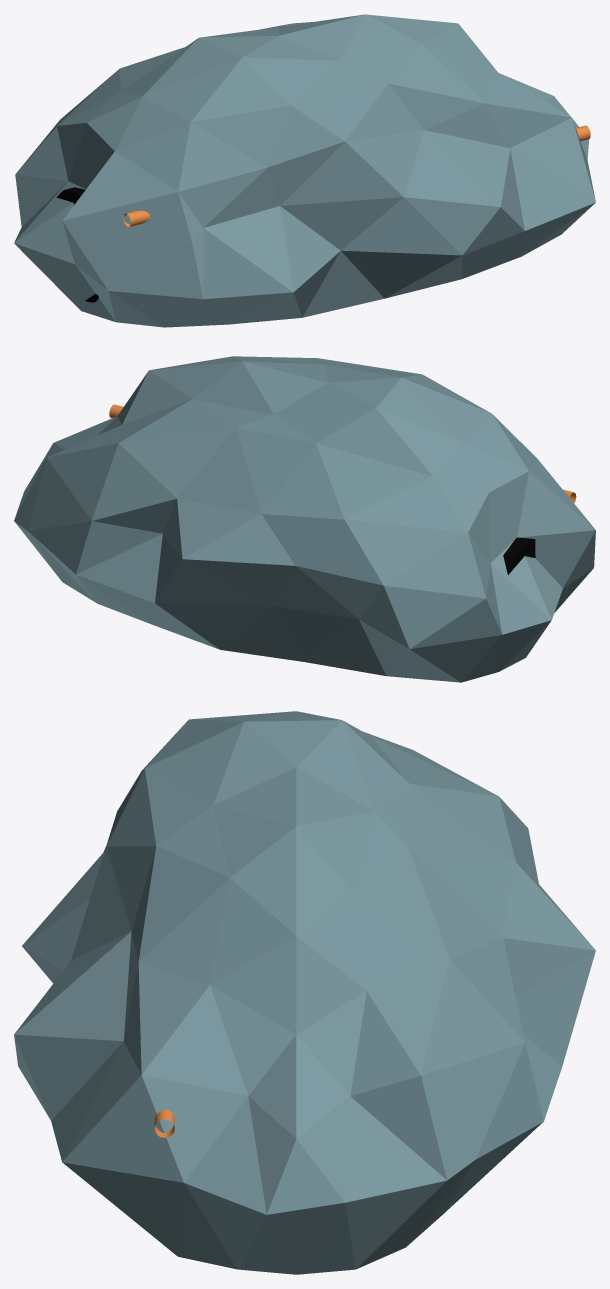
The model's file is waking-hall.glb.
3 views of the same model, one above another, from view 1: azimuth 30°, elevation 25°; view 2: azimuth 150°, elevation 25°; view 3: azimuth 270°, elevation 25° (orthographic). The views are drawn at different scales.
Visible parts, largest first — view 1: Icosphere, pipe; view 2: Icosphere, clock; view 3: Icosphere.
Part boxes in pixels (x1,y1,x2,y2): Icosphere: (14, 14, 595, 327); pipe: (123, 125, 590, 227); Icosphere: (14, 356, 595, 682); clock: (503, 537, 535, 574); Icosphere: (14, 711, 595, 1274).
Bounding box in the file's own units: 9.09 × 3.7 × 5.93.
